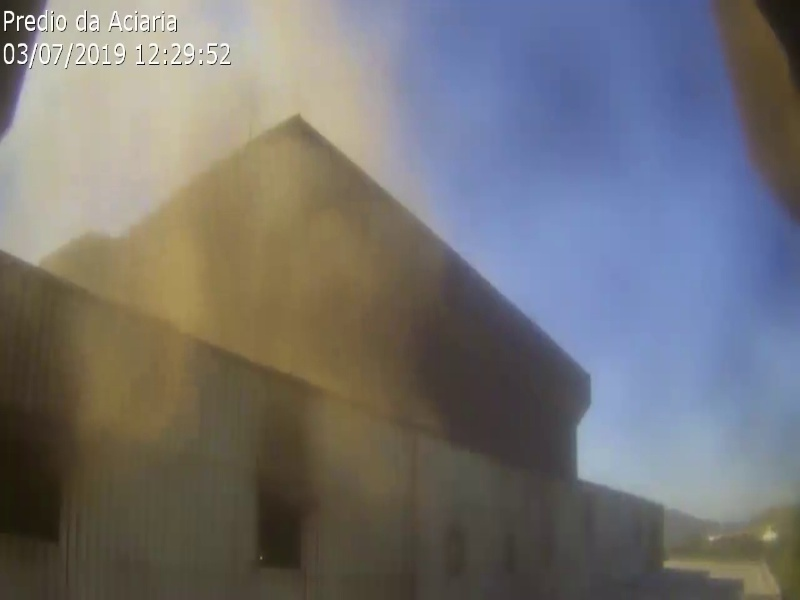Pessimo: (21, 67, 507, 506)
